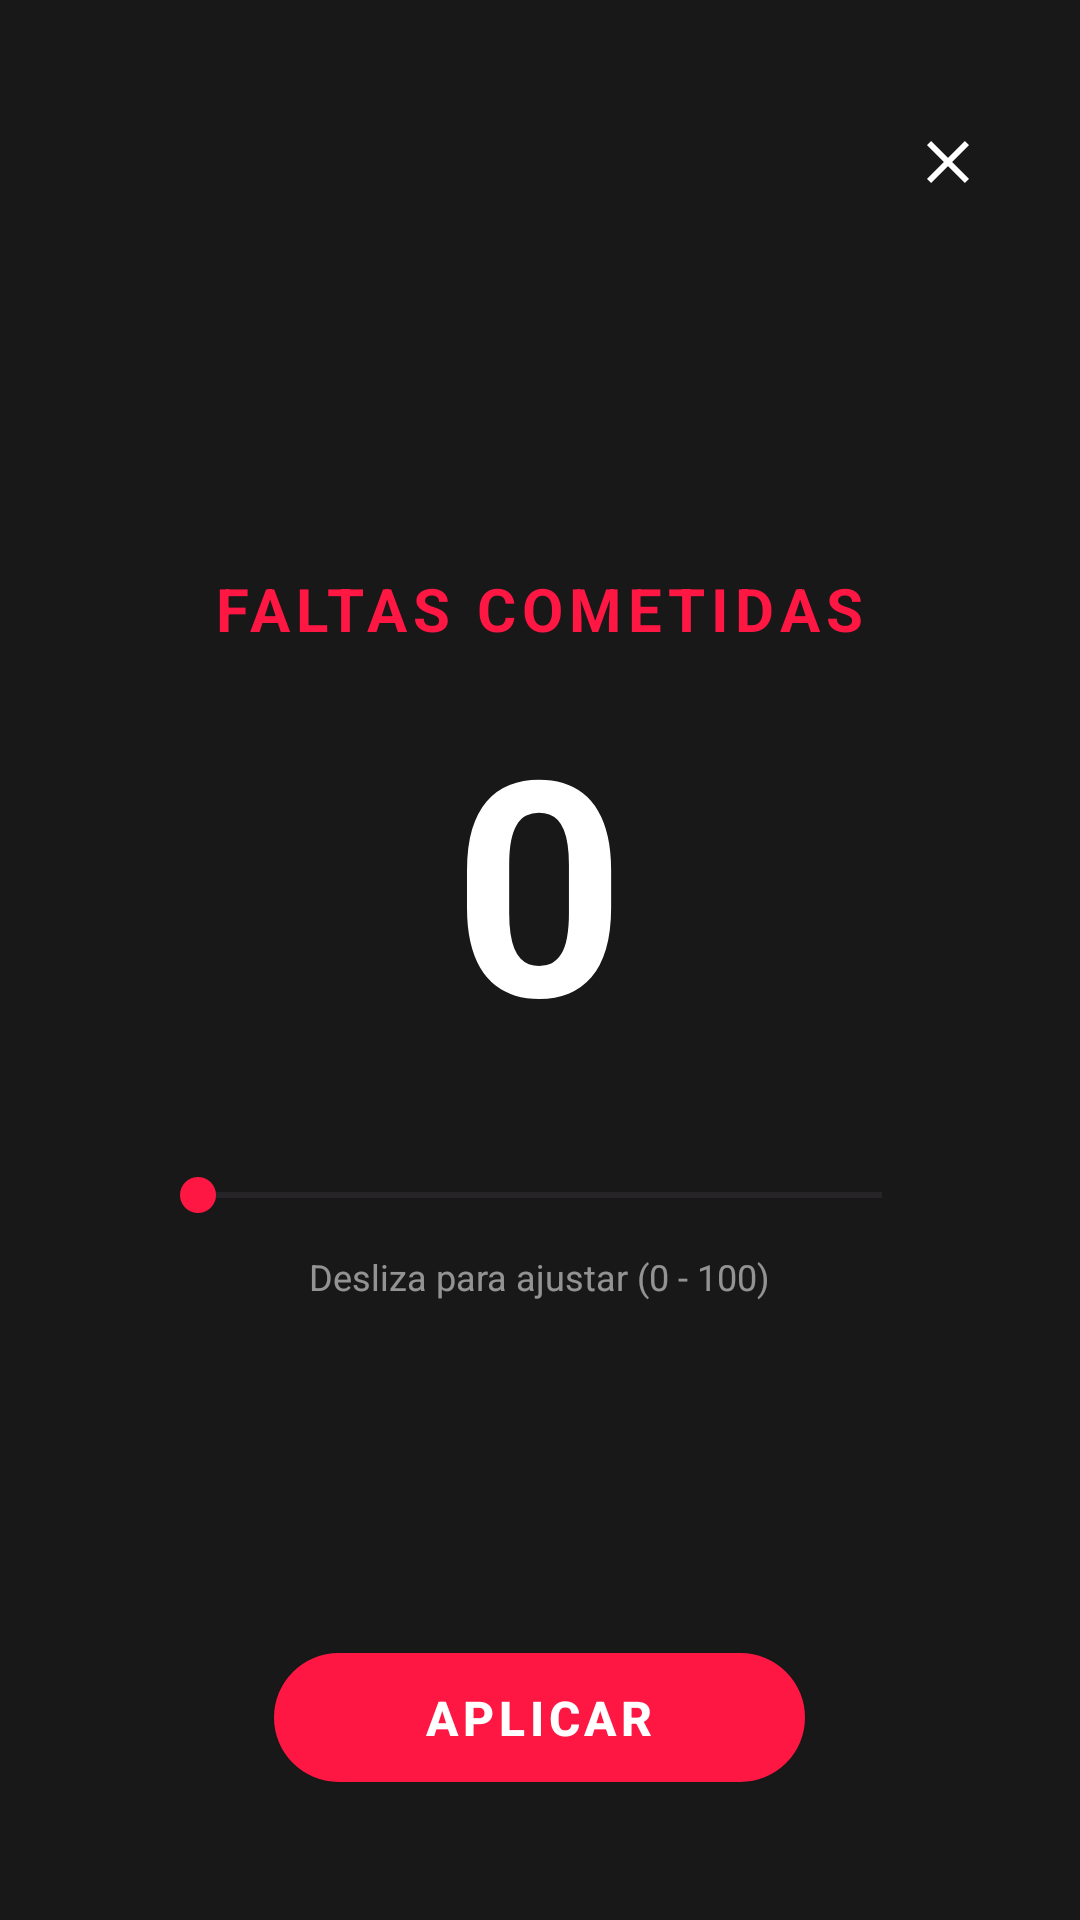

Icon bounding boxes for this 1080 x 1920 phone screenshot, format bbox=(x1, y1, x2, y2):
close: bbox=(927, 141, 969, 183)
